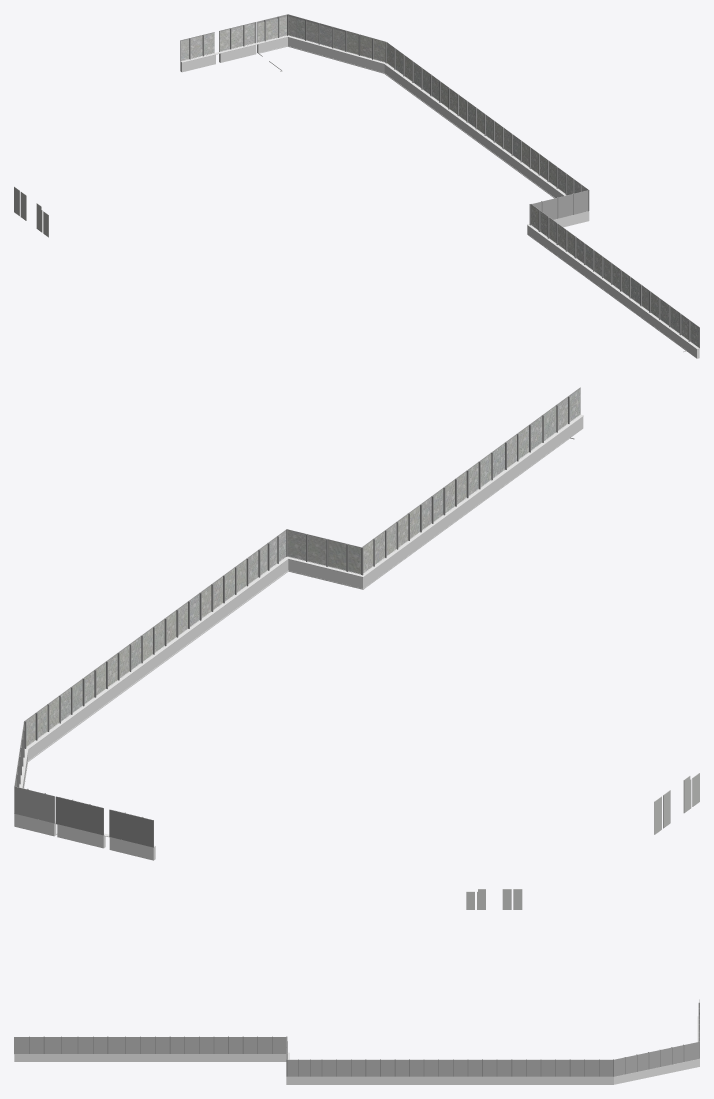
The model's file is glass_window.fbx.
3 views of the same model, one above another, from view 1: azimuth 30°, elevation 25°; view 2: azimuth 150°, elevation 25°; view 3: azimuth 270°, elevation 25° (orthographic). The views are drawn at different scales.
Parts seen in each view (by area): view 1: window_blind, window_base12, window_frames, window_basemarble, windows_glass_6; view 2: window_blind, window_base12, window_frames, window_basemarble, windows_glass_2, windows_glass_1, windows_glass_3, window_base_border; view 3: windows_glass_5, window_base12, windows_glass_7, windows_glass_4, window_frames, window_blind, window_basemarble.
Part boxes in pixels (<box>): window_blind: <box>14,16,698,347</box>; window_base12: <box>180,37,699,358</box>; window_frames: <box>189,14,690,341</box>; window_basemarble: <box>180,35,699,349</box>; windows_glass_6: <box>532,190,588,219</box>; window_blind: <box>15,388,699,834</box>; window_base12: <box>14,417,583,860</box>; window_frames: <box>14,396,569,817</box>; window_basemarble: <box>14,414,583,847</box>; windows_glass_2: <box>55,796,103,835</box>; windows_glass_1: <box>109,809,153,847</box>; windows_glass_3: <box>14,786,54,823</box>; window_base_border: <box>28,437,574,761</box>; windows_glass_5: <box>287,1059,612,1076</box>; window_base12: <box>14,1054,699,1084</box>; windows_glass_7: <box>14,1037,286,1053</box>; windows_glass_4: <box>614,1041,699,1076</box>; window_frames: <box>29,1002,699,1076</box>; window_blind: <box>466,889,522,909</box>; window_basemarble: <box>14,1016,699,1076</box>.
Size of the model in its own units: 4187 by 302 by 7161.
5 materials, 1 textured.
